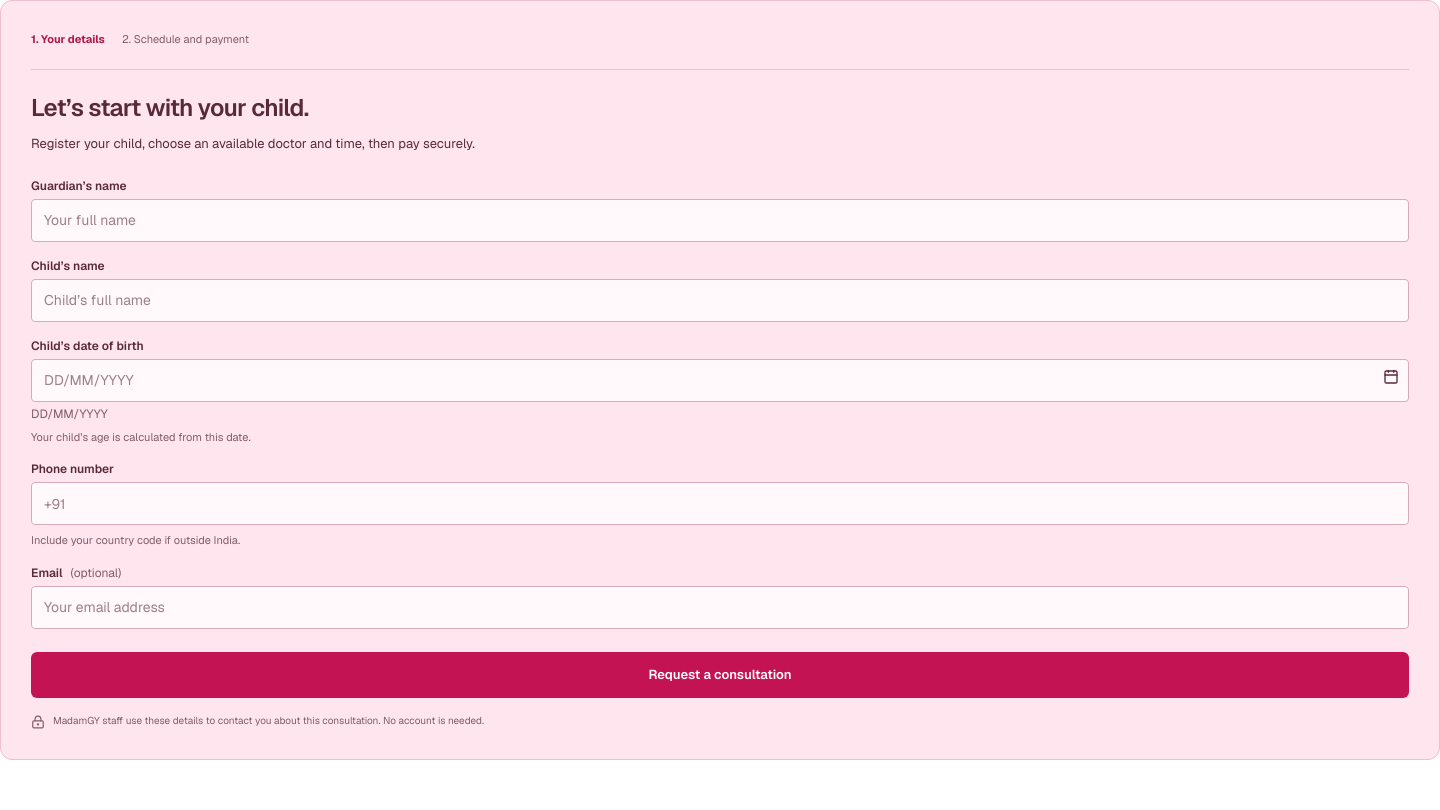
it: consultation intake › stores the requested fields with optional email and never requires checkout
Type "Test Guardian" into the field labelled "Guardian’s name".
click(720, 220); type("Test Guardian")  # box [31,199,1409,242]
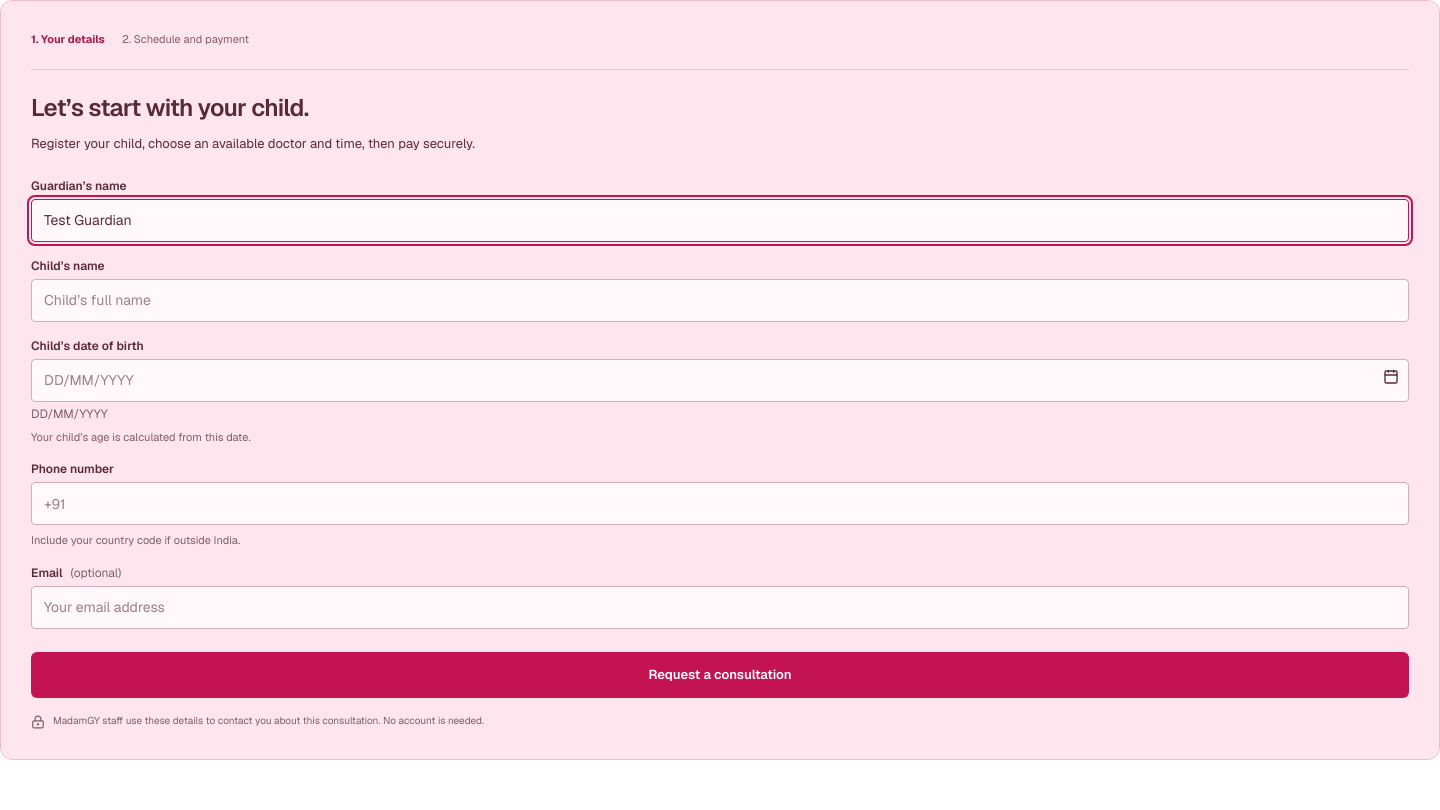
Type "Test Child" into the field labelled "Child’s name".
click(720, 300); type("Test Child")  # box [31,279,1409,322]
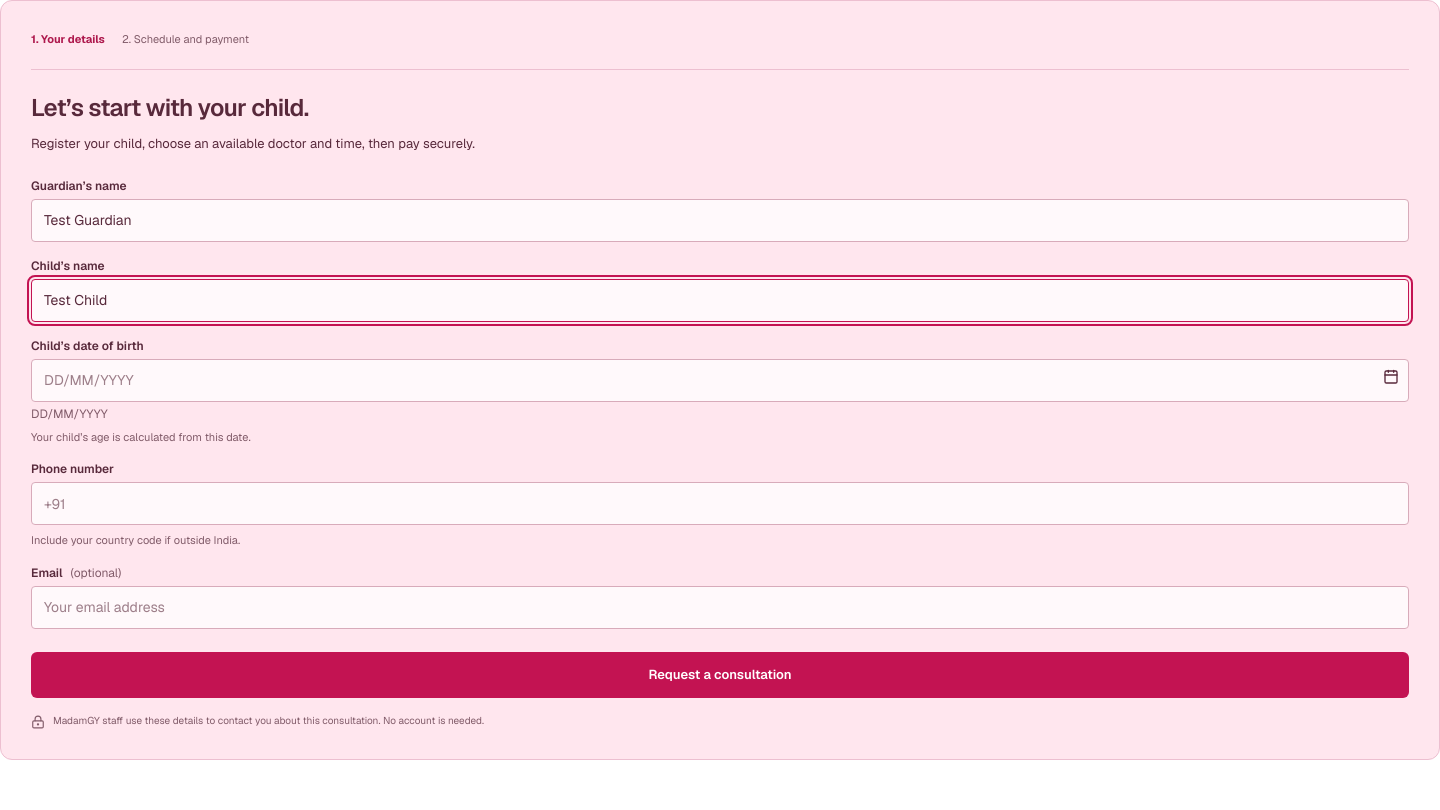
Type "28/02/2023" into the field labelled "Child’s date of birth".
click(720, 380); type("28/02/2023")  # box [31,359,1409,402]
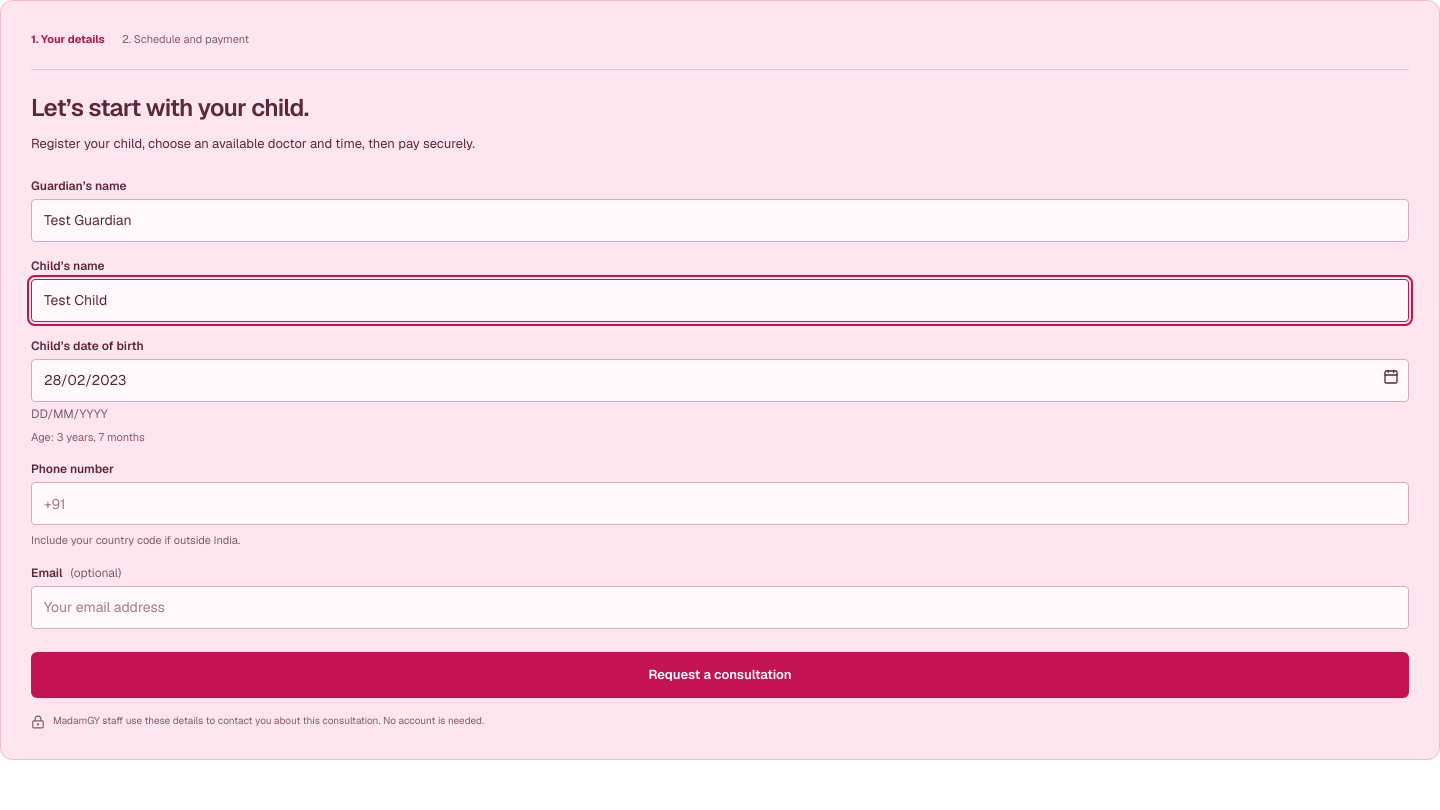
Type "+919876543210" into the field labelled "Phone number".
click(720, 504); type("+919876543210")  # box [31,482,1409,525]
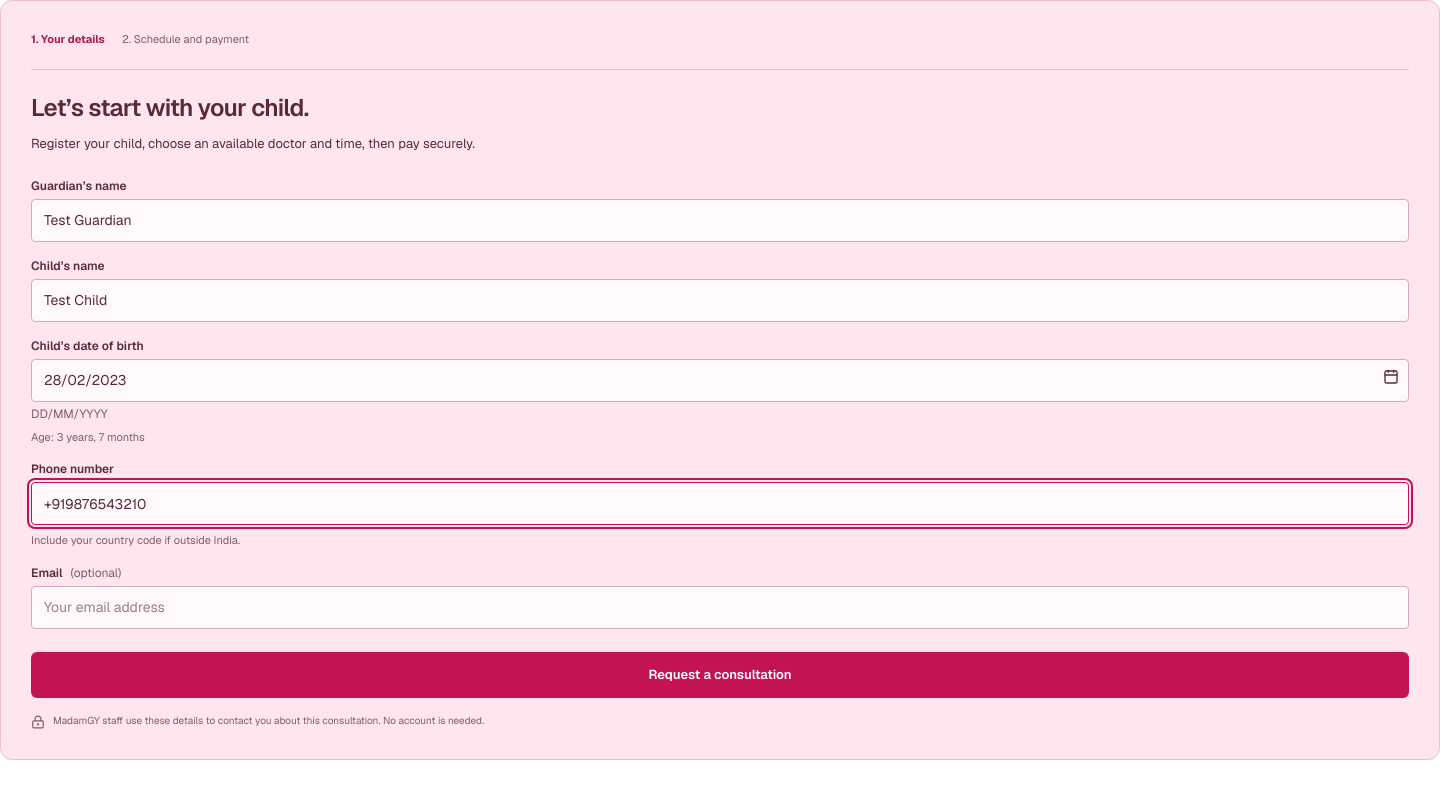
Click the button "Request a consultation".
click(720, 675)  # box [31,652,1409,698]
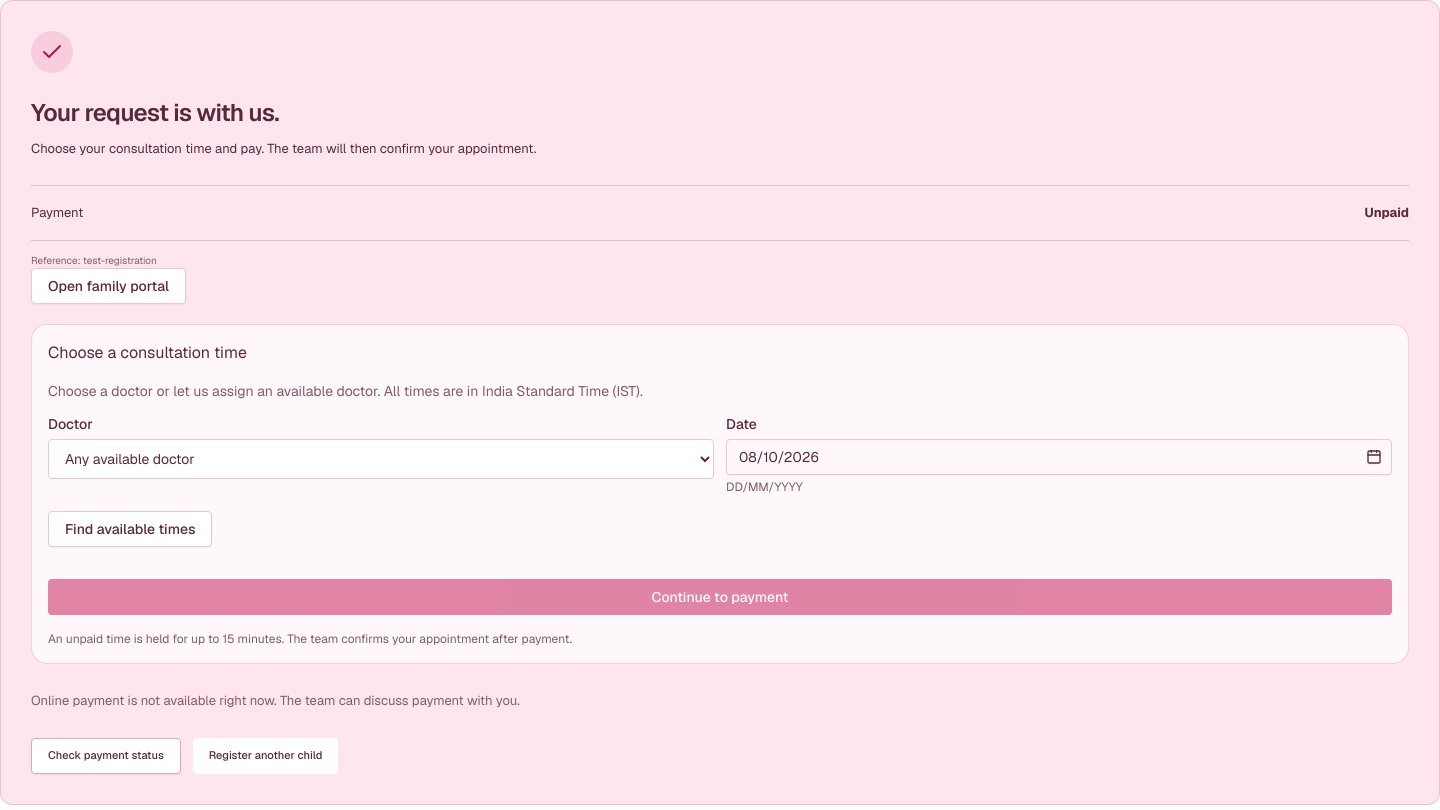
Check: the heading "Your request is with us." is shown, box [31,97,279,128]
Check: the text "Unpaid" is shown, box [1364,203,1409,223]
